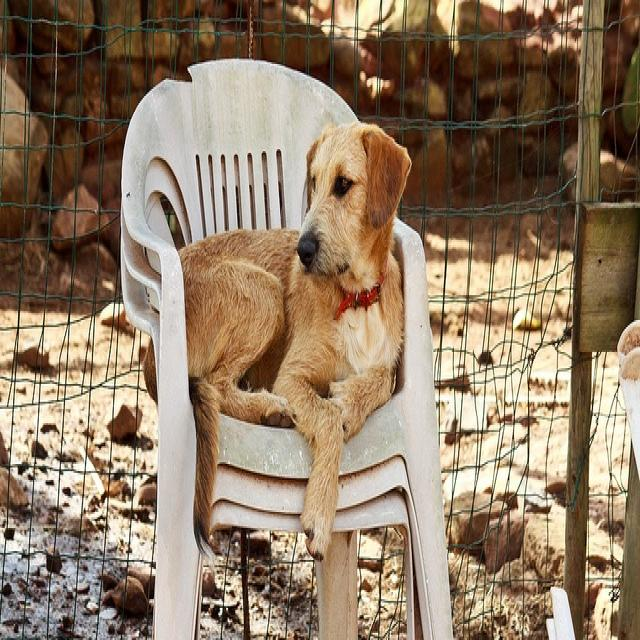dog: (143, 119, 409, 564)
